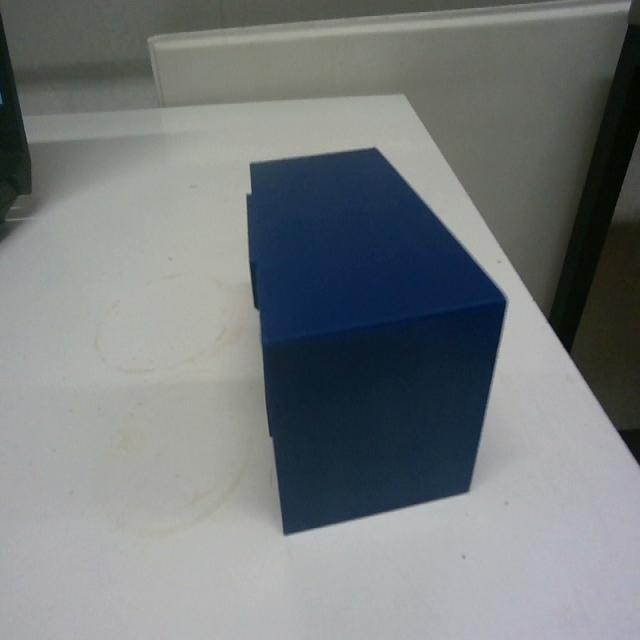Blue Cuboid: (242, 143, 509, 536)
